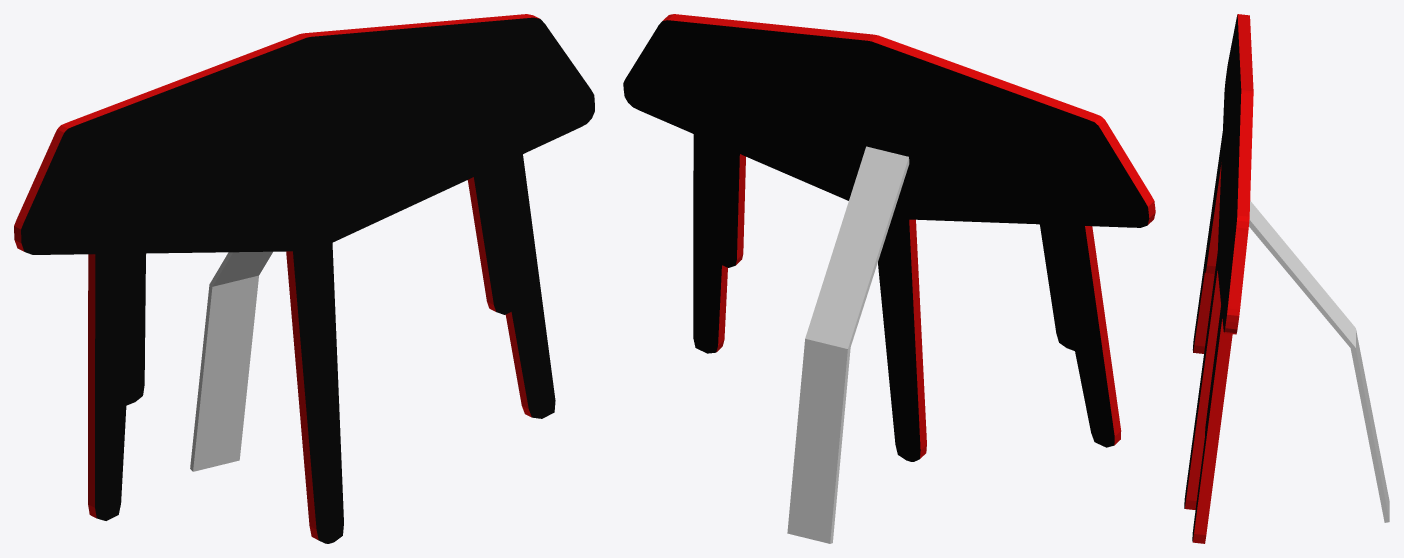
File: hexagon table cardboard.fbx
3 views of the same model, side by side, from view 1: azimuth 30°, elevation 25°; view 2: azimuth 150°, elevation 25°; view 3: azimuth 270°, elevation 25° (orthographic). The views are drawn at different scales.
Parts seen in each view (by area): view 1: path1, Plane; view 2: path1, Plane; view 3: path1, Plane.
Part boxes in pixels (bbox=[...]): path1: bbox=[14, 14, 594, 543]; Plane: bbox=[190, 251, 272, 471]; path1: bbox=[623, 14, 1155, 461]; Plane: bbox=[787, 146, 909, 543]; path1: bbox=[1184, 14, 1253, 543]; Plane: bbox=[1249, 201, 1389, 522].
Bounding box in the file's own units: 3865 × 3132 × 1368.
